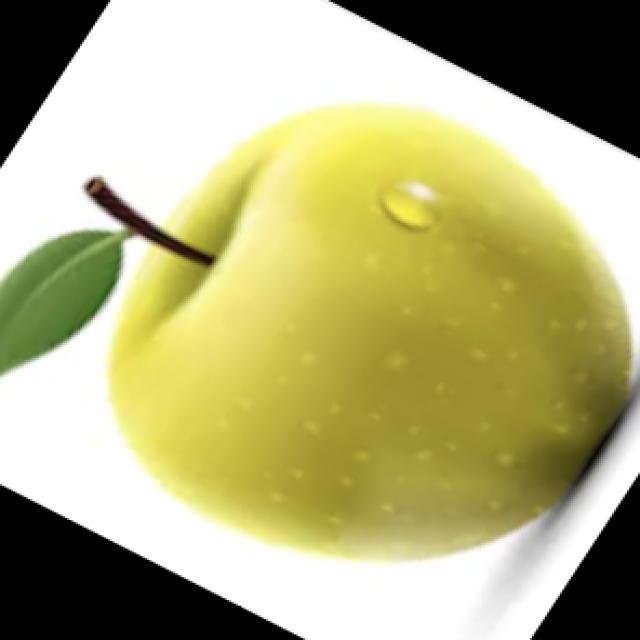Apple: (104, 100, 633, 563)
